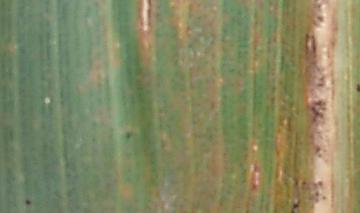tarspot: (310, 106, 325, 123), (309, 33, 317, 59), (124, 129, 133, 141), (311, 98, 323, 107), (315, 14, 325, 23), (313, 145, 321, 156), (354, 81, 360, 93), (315, 81, 324, 89), (292, 177, 298, 188), (23, 198, 31, 206), (316, 179, 323, 188), (314, 189, 321, 198), (292, 202, 299, 210), (321, 193, 327, 202), (316, 152, 323, 159), (300, 179, 306, 187)
